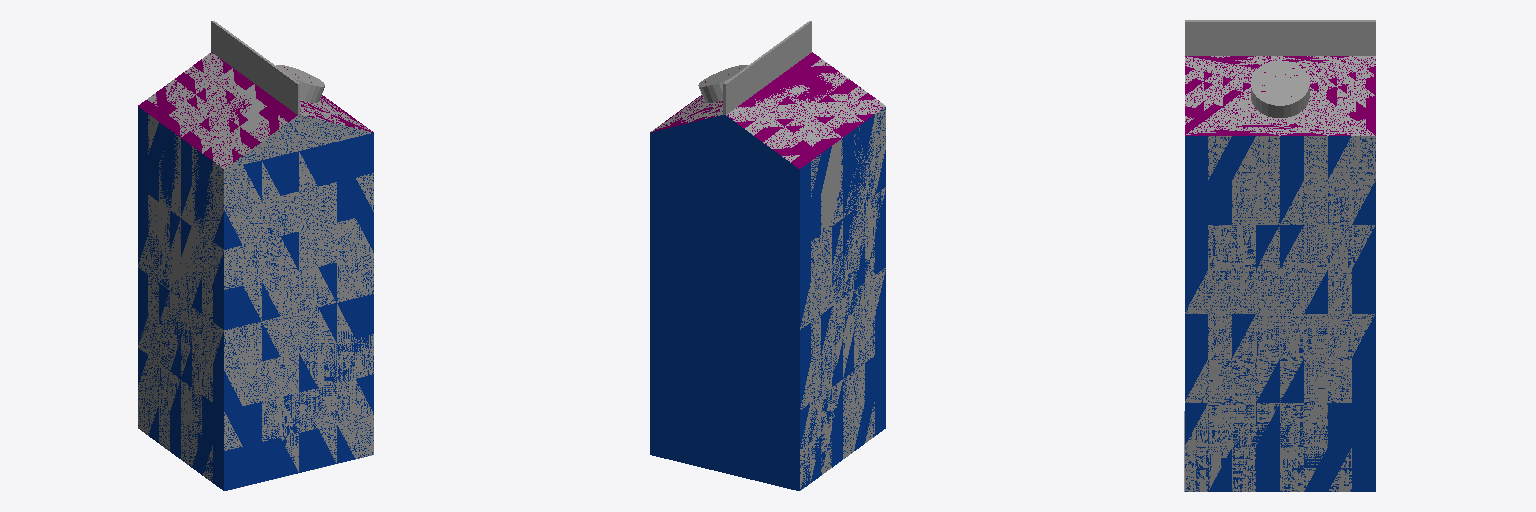
URDF robot description (tetrapak):
<robot
  name="tetrapak">
  <link name="tetrapak">
    <inertial>
      <origin xyz="0.0 0.0 0.0" rpy="0 0 0"/>
      <mass value="0.5"/>
      <inertia ixx="1" ixy="0.0" ixz="0.0" iyy="1" iyz="0.0" izz="1" />
    </inertial>

    <visual>
      <geometry>
        <mesh filename="../../meshes/rssModels/tetrapak_sketchup.dae" scale="1 1 1" />
      </geometry>
     </visual>

    <collision>
      <geometry>
        <mesh filename="../../meshes/rssModels/tetrapak_sketchup.dae" scale="1 1 1" />
      </geometry>
    </collision>

  </link>
</robot>

--- What the picture shows (computed from the rendered views, not written in the file) ---
The picture shows the robot from 3 angles, left to right: view 1: azimuth 30°, elevation 25°; view 2: azimuth 150°, elevation 25°; view 3: azimuth 270°, elevation 25°; orthographic projection.
Model tetrapak with 1 links and 0 joints (none), rooted at tetrapak, posed all joints at 0.
Visible links, largest first — view 1: tetrapak; view 2: tetrapak; view 3: tetrapak.
Boxes of the visible links, bbox=[...] form: tetrapak: bbox=[138, 21, 373, 490]; tetrapak: bbox=[650, 21, 885, 490]; tetrapak: bbox=[1184, 20, 1375, 491].
Size in the robot's own frame: 0.0968 by 0.0968 by 0.2397 metres.
1 mesh visuals loaded from 1 distinct referenced files (1 Collada DAE).